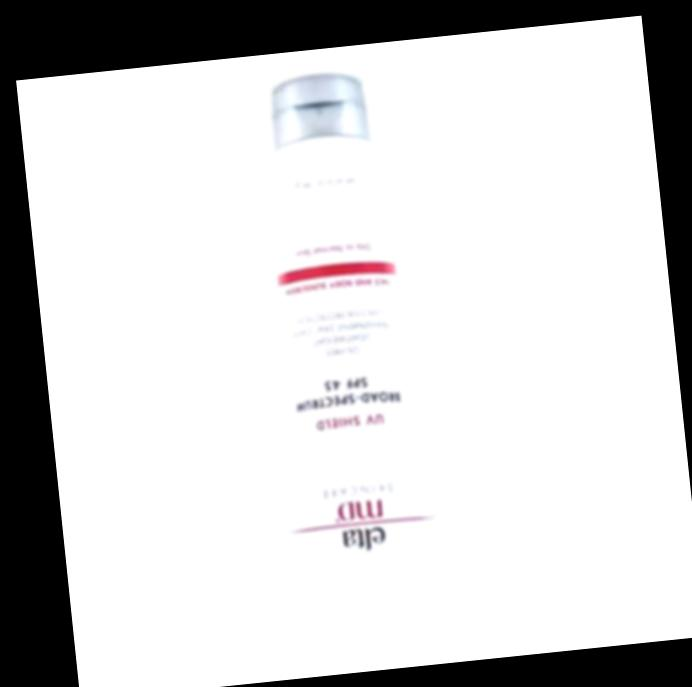cosmetic: (223, 63, 462, 644)
